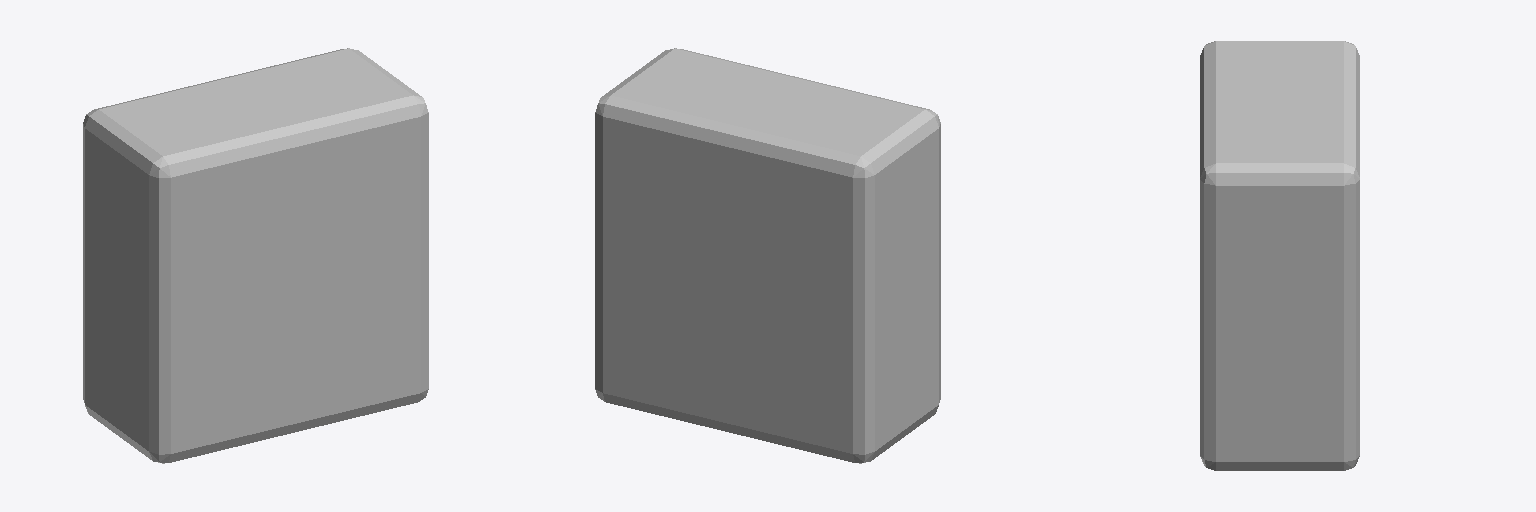
Rendered from Torso.obj.
The picture shows the model from 3 angles: view 1: azimuth 30°, elevation 25°; view 2: azimuth 150°, elevation 25°; view 3: azimuth 270°, elevation 25°; orthographic projection.
Parts seen in each view (by area): view 1: TORSO; view 2: TORSO; view 3: TORSO.
Boxes of the visible parts, x1=… form: TORSO: x1=83, y1=48, x2=428, y2=463; TORSO: x1=595, y1=48, x2=940, y2=463; TORSO: x1=1200, y1=41, x2=1359, y2=470.
Bounding box in the file's own units: 2 × 2.11 × 1.